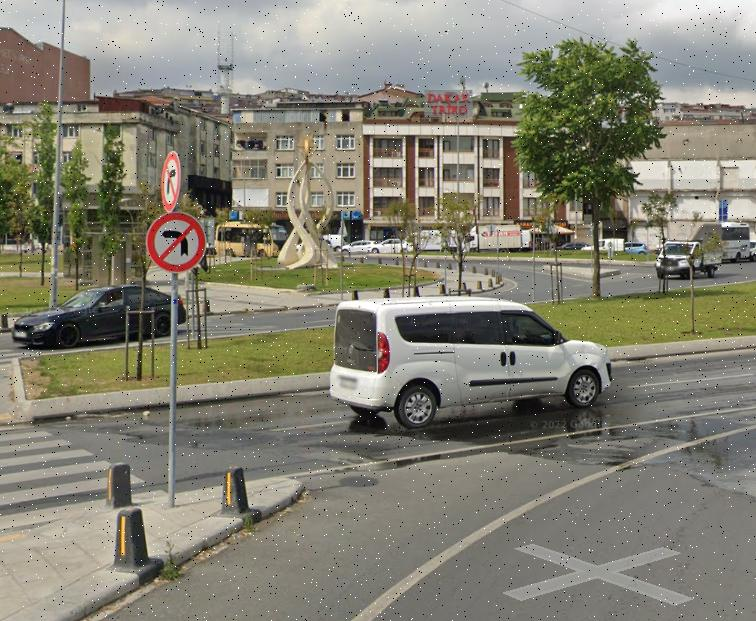leftturnsareforbidden: (148, 215, 206, 269)
rightturnsareforbidden: (160, 151, 185, 211)
